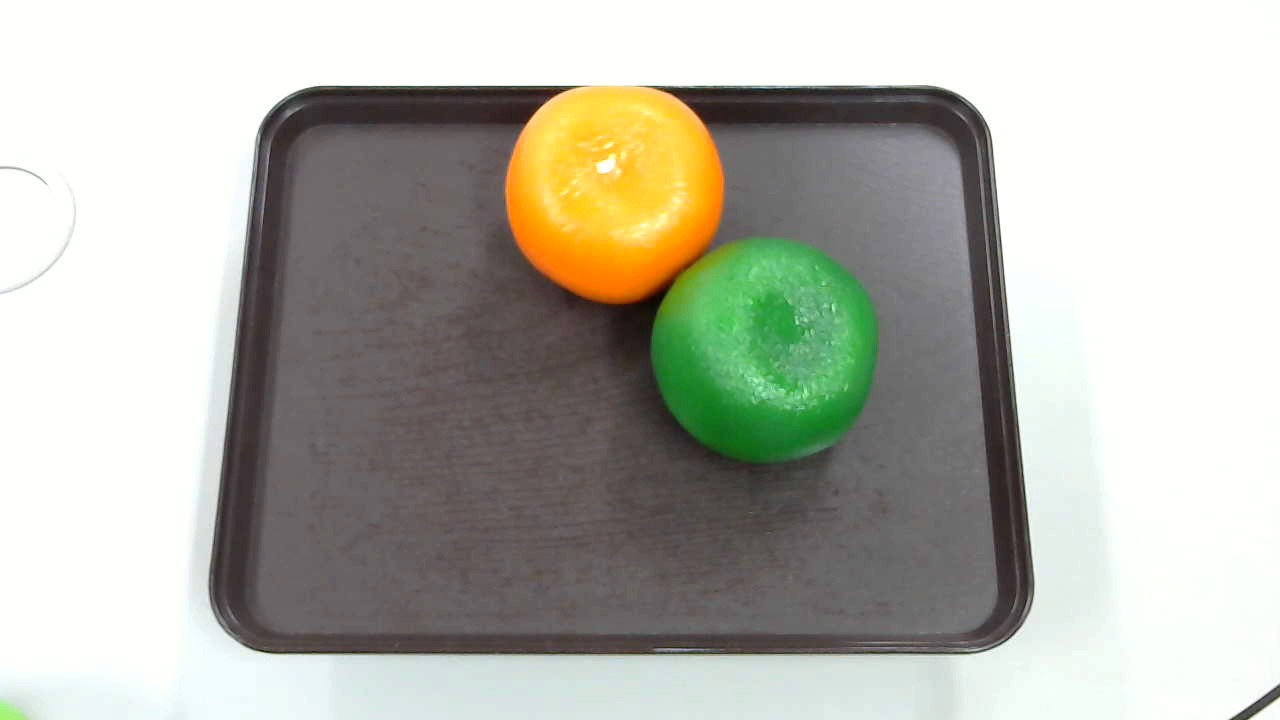green orange: (647, 232, 880, 455)
orange: (500, 86, 726, 320)
